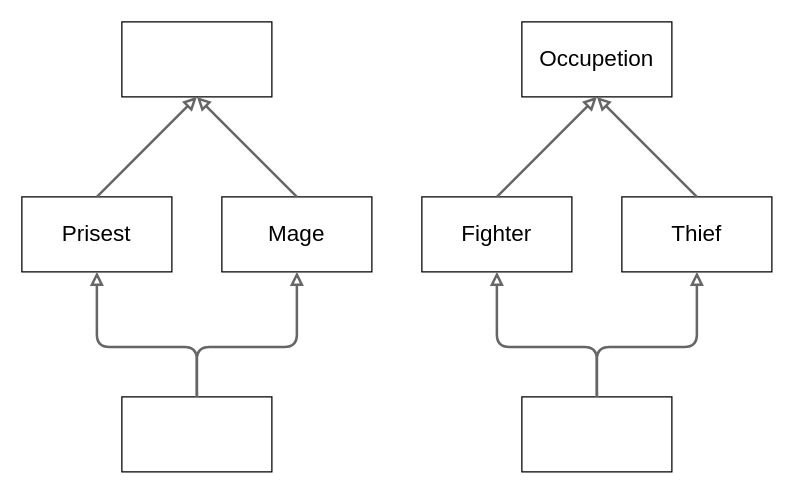
Image size: 794x494. Some labels were removed from this diagram. Here are the shapes that lost their labels. From the top down, the box of each, then its label:
(121, 21, 272, 97): Occupation
(121, 396, 272, 472): Bishop
(521, 396, 672, 472): Ninja
